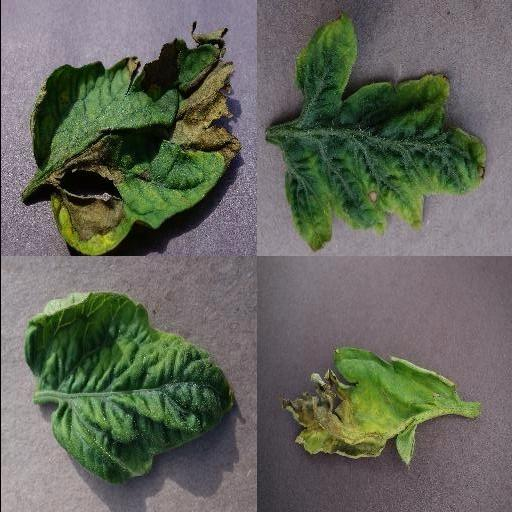Late Blight: (24, 22, 238, 256), (276, 346, 462, 468)
Yellow Leaf Curl Virus: (278, 16, 486, 252), (22, 291, 236, 485)
